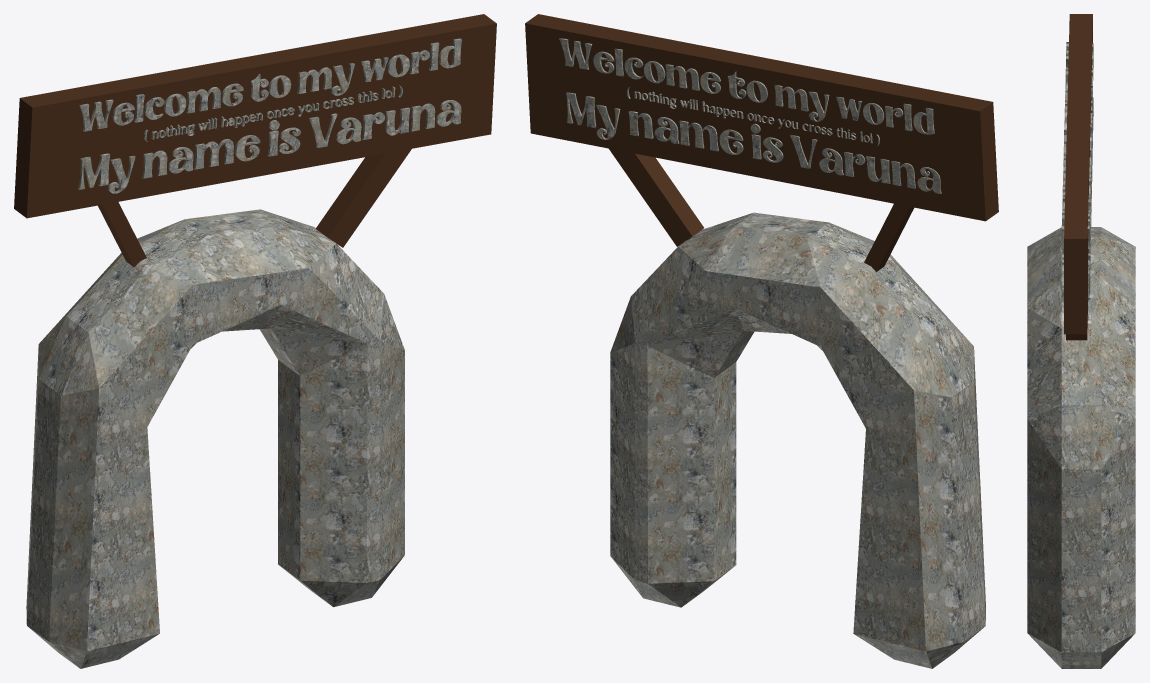
The model's file is MainGate-transformed.glb.
3 renders of one model, left to right at view 1: azimuth 30°, elevation 25°; view 2: azimuth 150°, elevation 25°; view 3: azimuth 270°, elevation 25°, orthographic. The views are drawn at different scales.
Visible parts, largest first — view 1: MainGate; view 2: MainGate; view 3: MainGate.
Part boxes in pixels (bbox=[...]): MainGate: bbox=[14, 14, 496, 668]; MainGate: bbox=[525, 14, 998, 668]; MainGate: bbox=[1027, 14, 1135, 668].
Size of the model in its own units: 3.58 by 4.16 by 0.8018.
2 materials, 1 textured.
